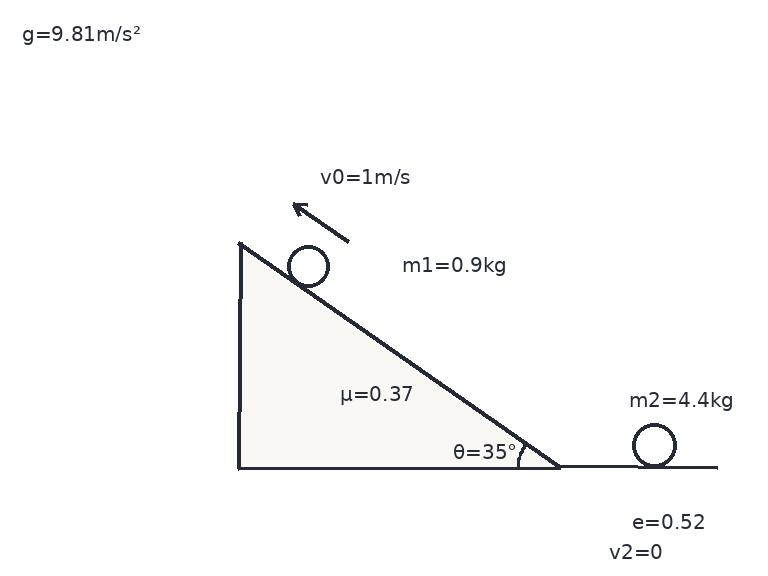ball: (630, 421, 678, 469), (285, 243, 331, 289)
ramp: (237, 241, 560, 469)
